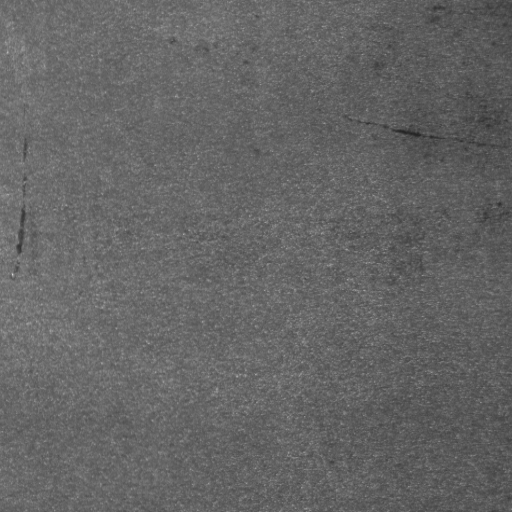hengxiangliewen: (320, 108, 510, 153)
zongxiangliewen: (12, 133, 30, 278)
